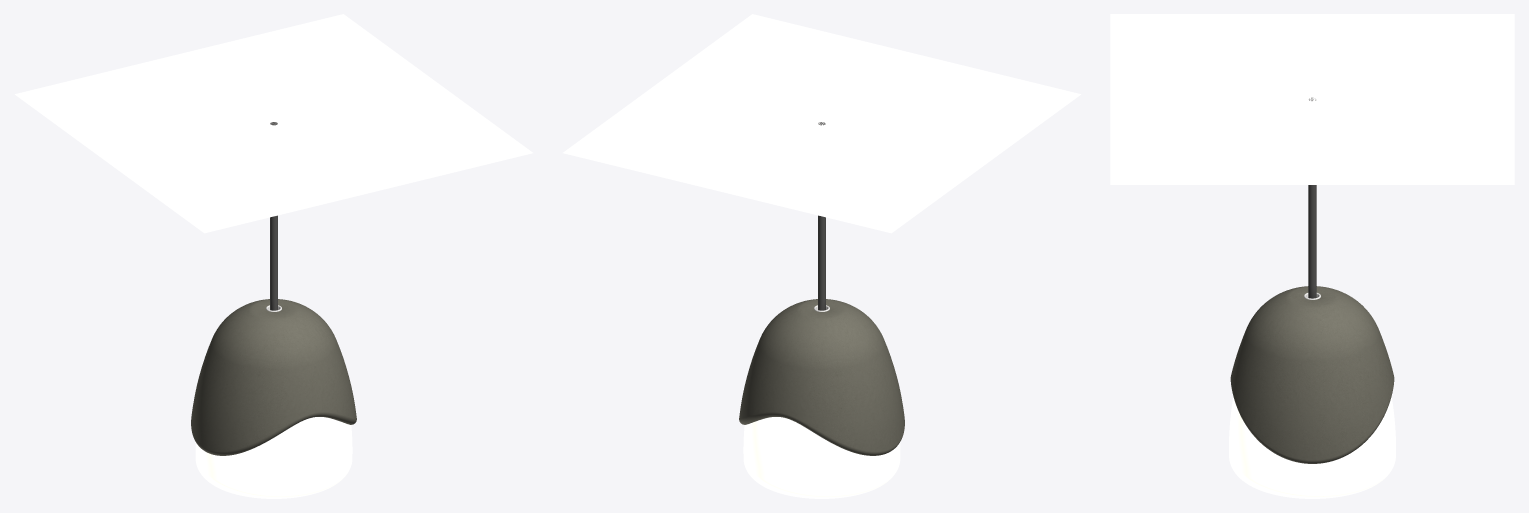
File: odd.glb
3 renders of one model, left to right at view 1: azimuth 30°, elevation 25°; view 2: azimuth 150°, elevation 25°; view 3: azimuth 270°, elevation 25°, orthographic. The views are drawn at different scales.
Parts seen in each view (by area): view 1: Holo; view 2: Holo; view 3: Holo.
Boxes of the visible parts, bbox=[...] form: Holo: bbox=[15, 14, 532, 498]; Holo: bbox=[563, 14, 1080, 498]; Holo: bbox=[1110, 14, 1514, 498].
Bounding box in the file's own units: 0.339 × 0.339 × 0.339.
Materials: 19 (2 with a texture image).
